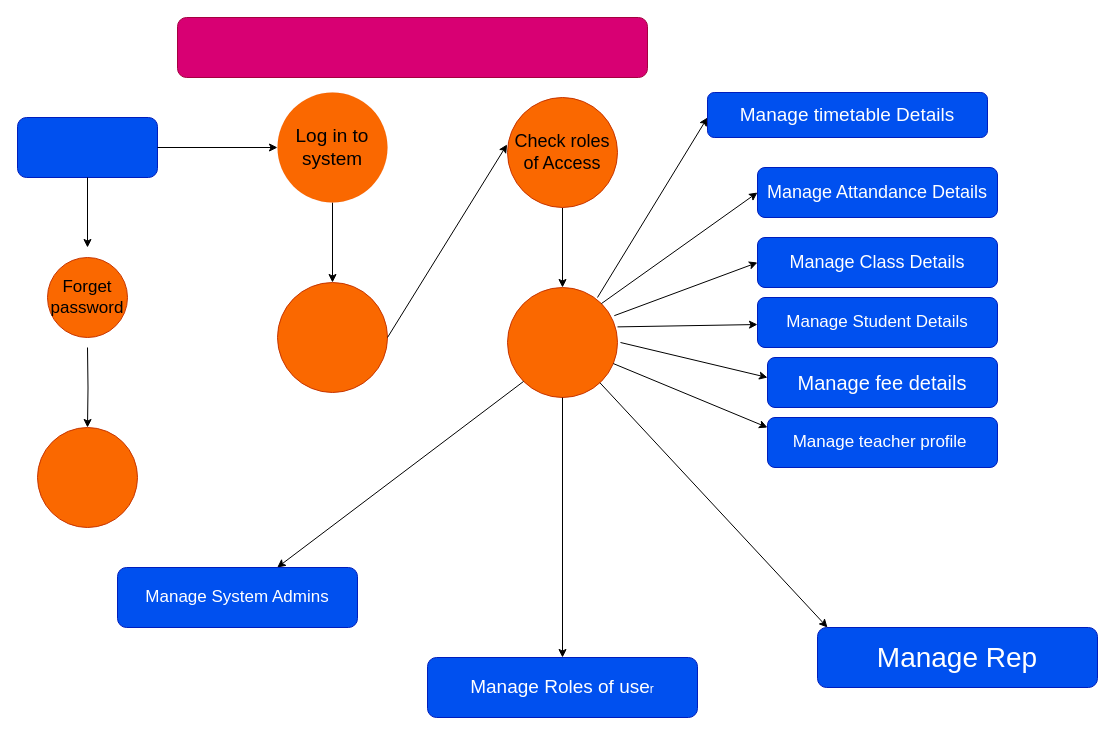
Some shapes in this 1115 by 735 pixel diagram are drawn without their labels. The shapes that lost their labels are listed below. From the top down, each one's centre as x and y in pixels, then its label:
At pixel 412 47: "Student information".
At pixel 87 147: "admin".
At pixel 332 337: "Check Credentials".
At pixel 562 342: "Mange Modules".
At pixel 87 477: "Send Email to the user".
